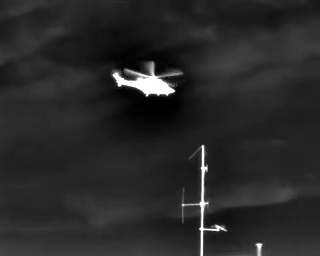HELICOPTER: (109, 56, 187, 105)
